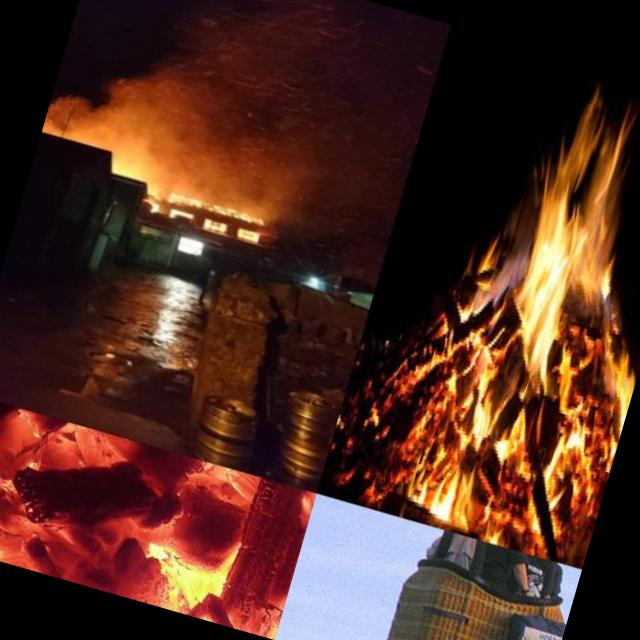fire: (407, 56, 640, 489), (0, 406, 316, 639), (156, 186, 270, 248), (98, 154, 172, 216)
smoke: (148, 72, 356, 220), (42, 92, 217, 176), (94, 44, 174, 133)
